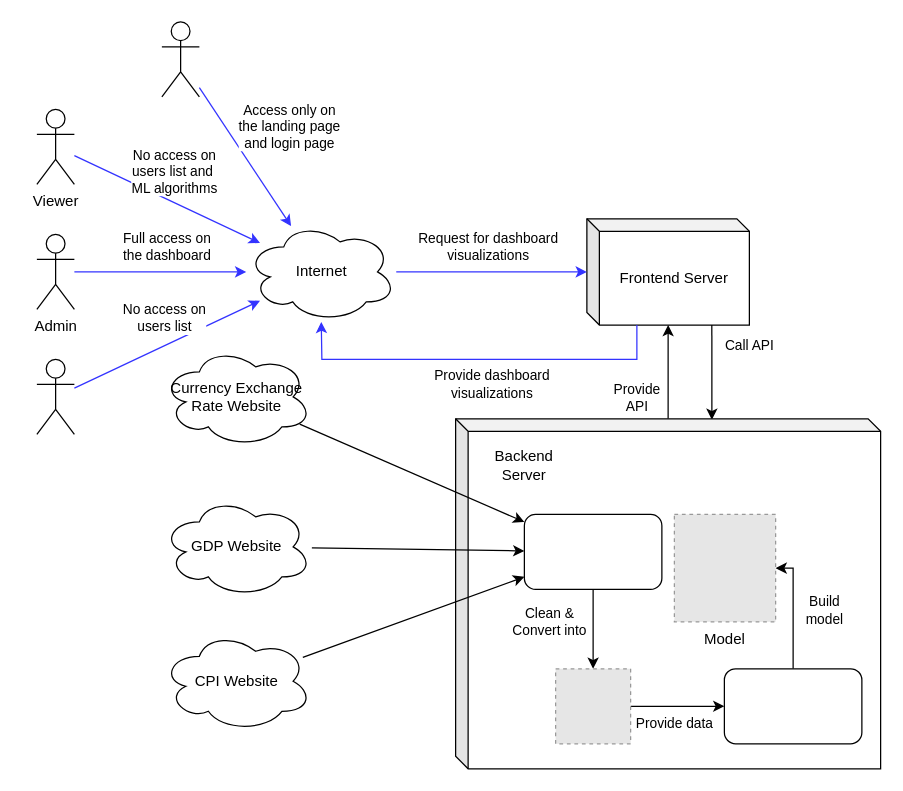
Image size: 903x791. Some labels were removed from this diagram. Grey dashed boxes stand in for pictures. Each missing label, with the centre of its shape:
"Developer" goes at [55,396].
"ETL" goes at [592,551].
"Model Trainer" goes at [792,706].
"Visitor" goes at [180,59].
